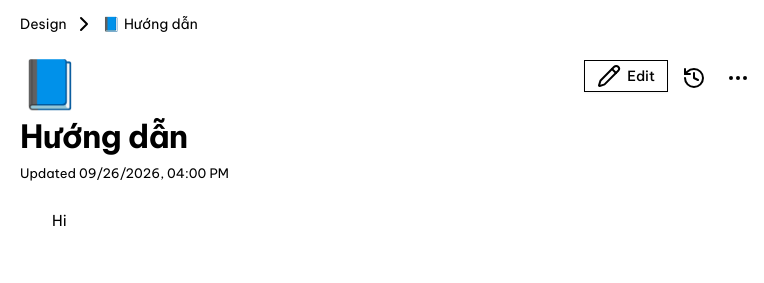
Test: PageView › shows a translated error when the rename fails
Click the button with aria-label "Edit page". click: (626, 76)
box: [584,60,668,92]
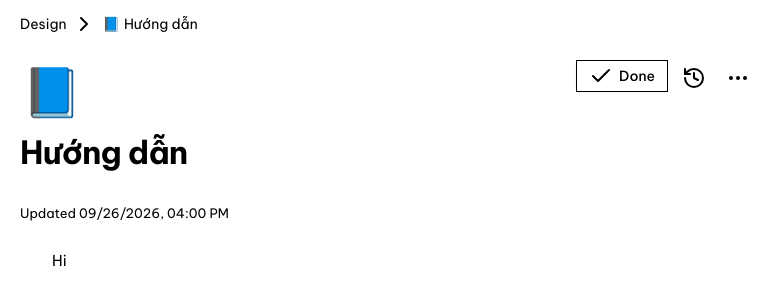
Type "!" into the text box named "Page title". click: (290, 152)
box: [16,132,564,172]
Then press Enter
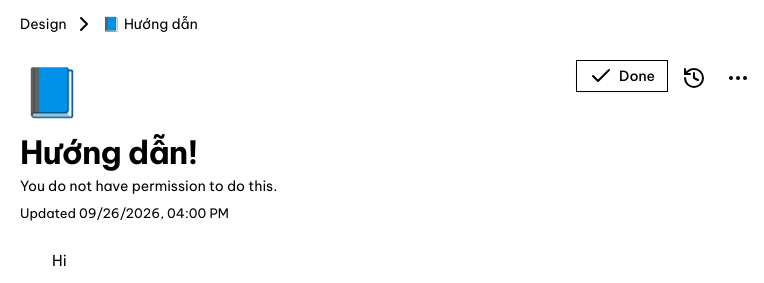
Expected: the message reads "You do not have permission to do this.", [20,177,277,195]
